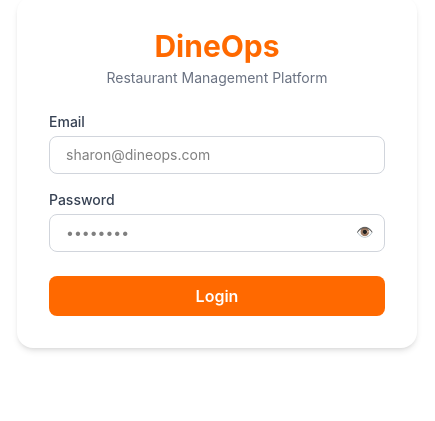
Scenario: LoginPage › shows error message on failed login
The width and height of the screenshot is (435, 421).
Fill in the form
Type "wrong@email.com" into the field with placeholder "sharon@dineops.com" at {"x": 217, "y": 155}, box [49,136,385,174]
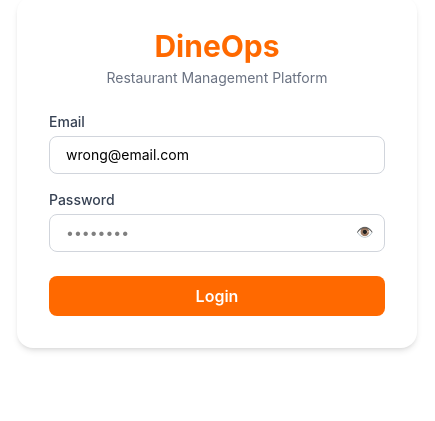
Type "wrongpassword" into the password field with placeholder "••••••••" at {"x": 217, "y": 233}, box [49,214,385,252]
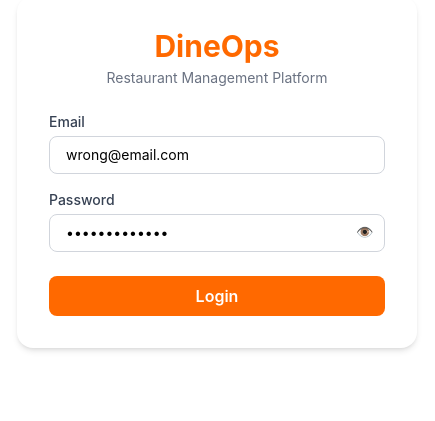
Click login
Click the button "Login" at {"x": 217, "y": 296}, box [49,276,385,316]
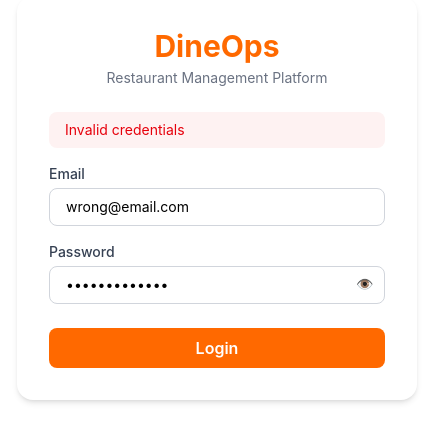
Expected: the text "Invalid credentials" is shown, [49,112,385,148]
